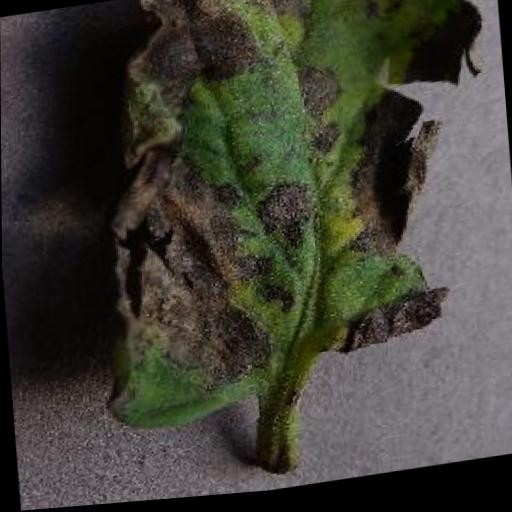Early Blight: (79, 0, 511, 428)
